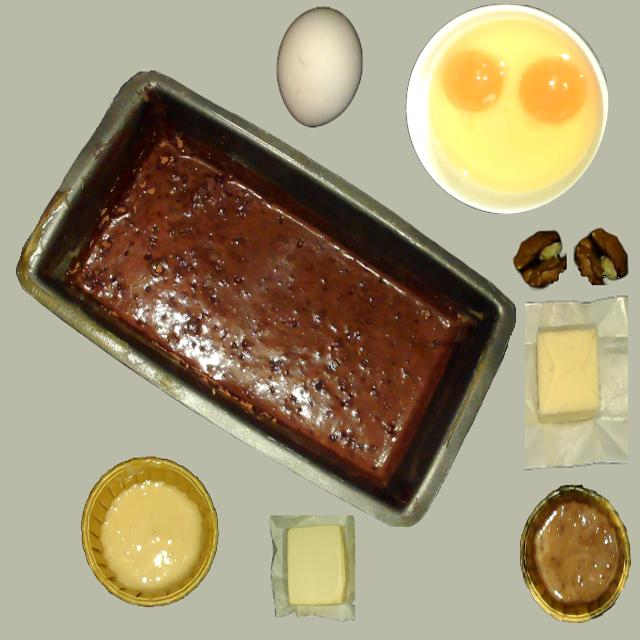Egg: (519, 57, 586, 125), (443, 49, 505, 114)
